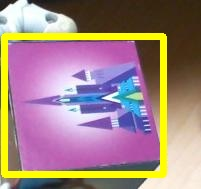Castle4: (4, 36, 163, 174)
